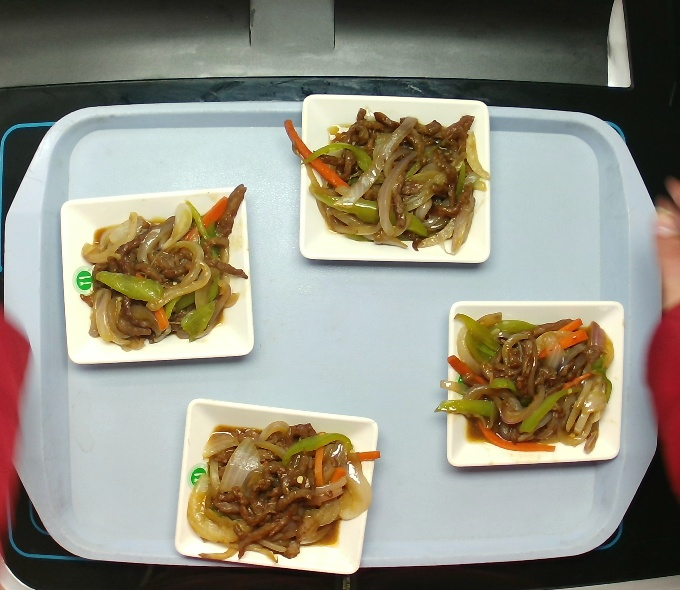wcq-NiuYangCongNiuLiu: (49, 175, 277, 358), (293, 97, 486, 251), (185, 410, 373, 565), (439, 300, 613, 460)
